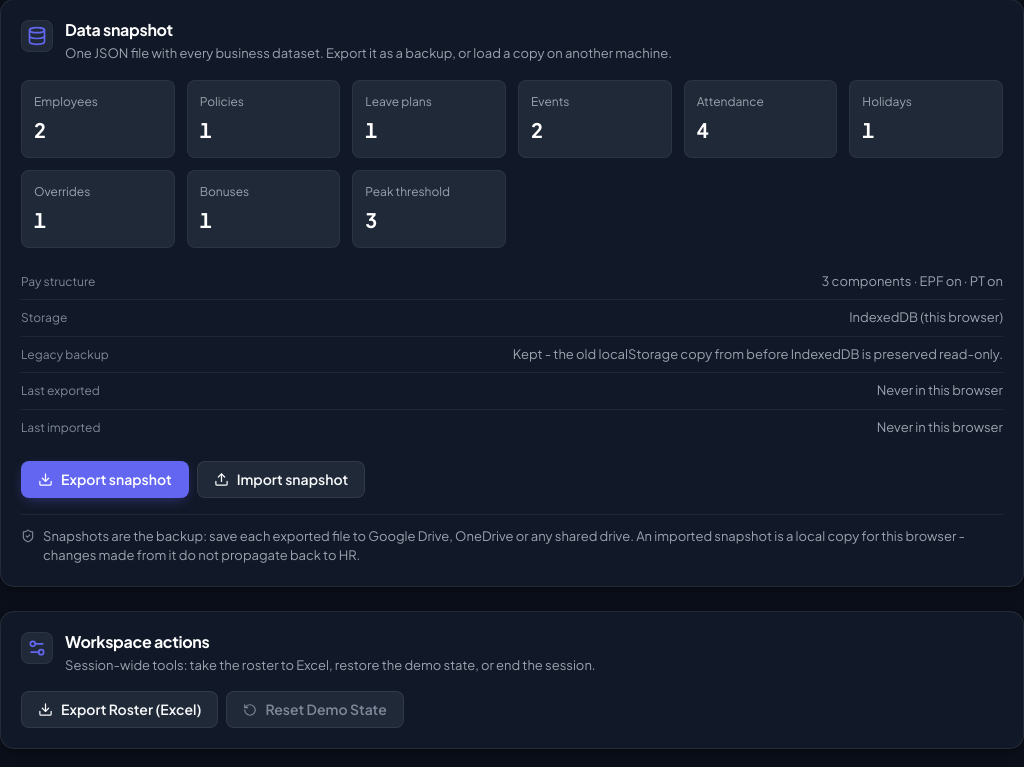
Admin snapshot card — export › exports the live datasets, downloads the file and records the last export
Expected: the text "Never in this browser" is shown 2 times, left=877, top=381, right=1003, bottom=400; left=877, top=418, right=1003, bottom=437
Click the button "Export snapshot" at coordinates (105, 479), box left=21, top=461, right=189, bottom=498
(page scrolled)
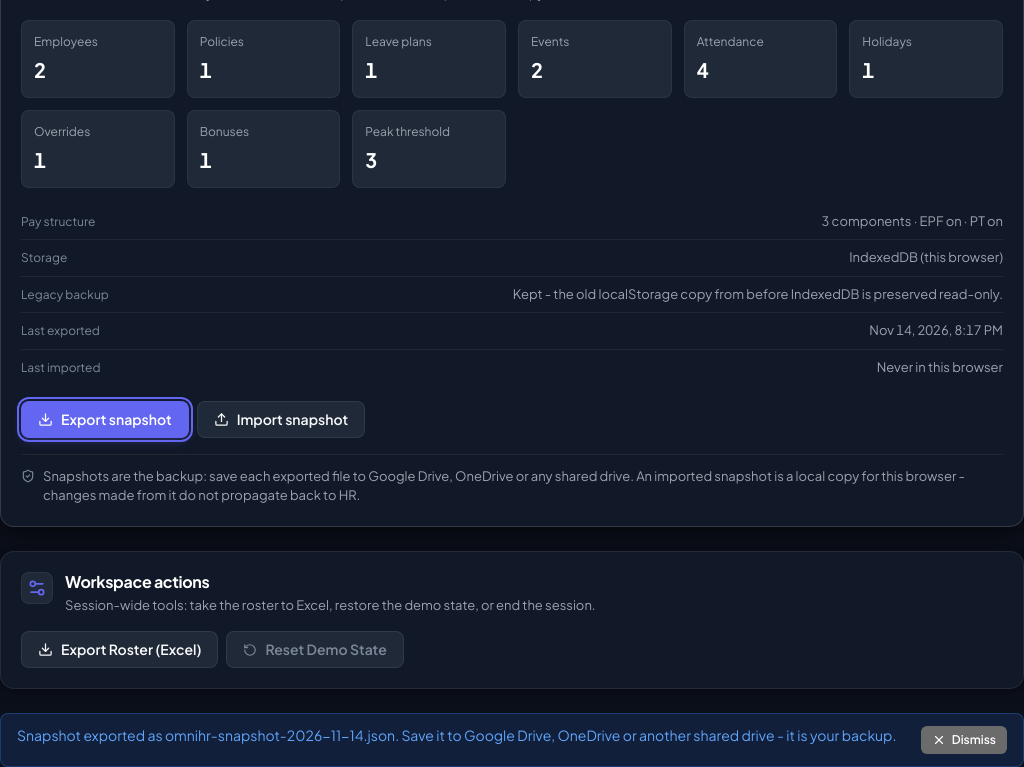
Expected: the text "Last imported" shows "Never in this browser", left=877, top=358, right=1003, bottom=374
Result: the text "Last exported" no longer shows "Never in this browser"
Result: the message shows "Snapshot exported" at left=17, top=726, right=896, bottom=744
